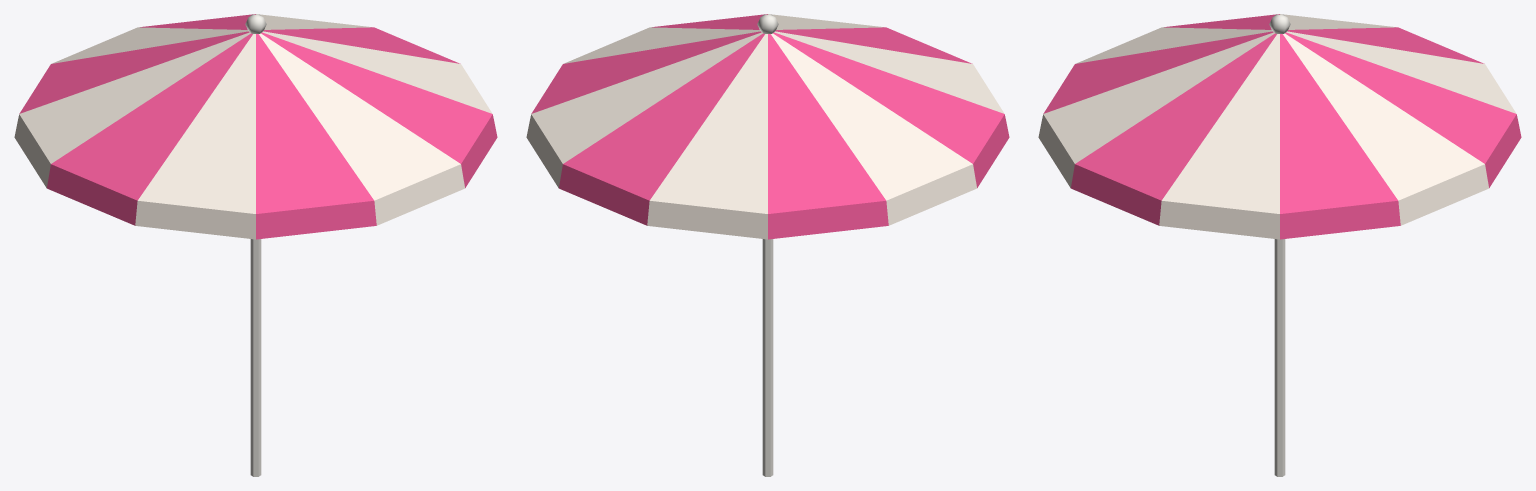
The model's file is beach_umbrella.glb.
3 views of the same model, side by side, from view 1: azimuth 30°, elevation 25°; view 2: azimuth 150°, elevation 25°; view 3: azimuth 270°, elevation 25° (orthographic).
Parts seen in each view (by area): view 1: beach_umbrella; view 2: beach_umbrella; view 3: beach_umbrella.
Boxes of the visible parts, <box> form: beach_umbrella: <box>14,14,497,476</box>; beach_umbrella: <box>526,14,1009,476</box>; beach_umbrella: <box>1038,14,1521,476</box>.
Bounding box in the file's own units: 2.24 × 2.36 × 2.24.
